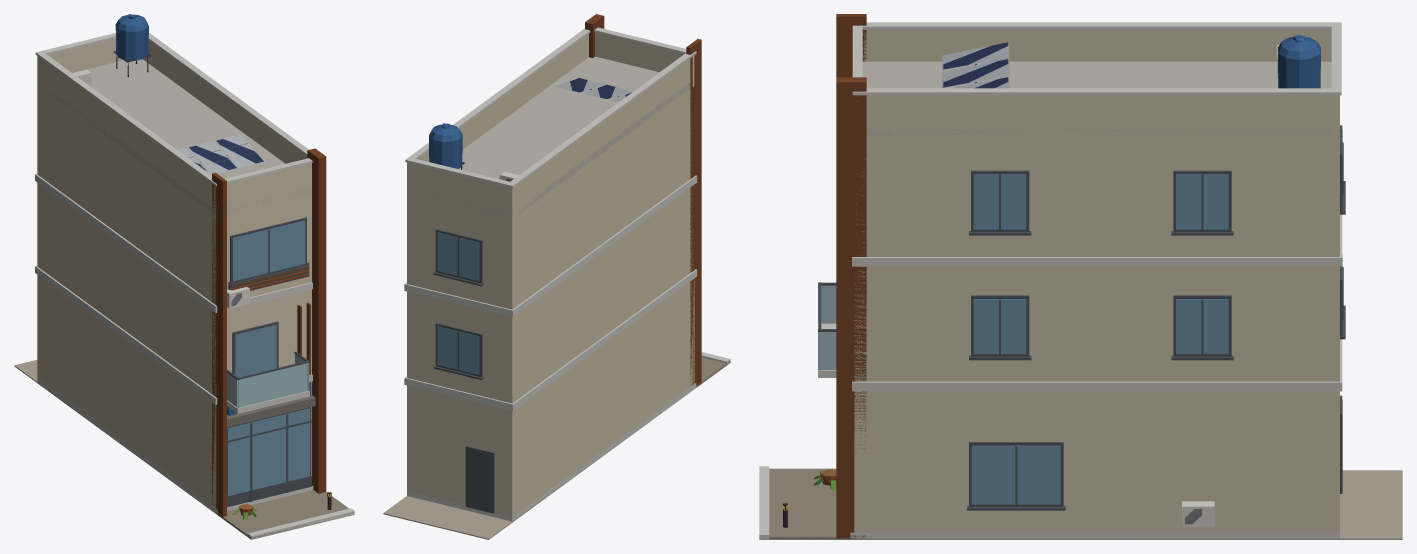
Rendered from bay1_right.glb.
3 views of the same model, side by side, from view 1: azimuth 30°, elevation 25°; view 2: azimuth 150°, elevation 25°; view 3: azimuth 270°, elevation 25° (orthographic). The views are drawn at different scales.
Parts seen in each view (by area): view 1: body; view 2: body; view 3: body.
Part boxes in pixels (left/top/right/bottom): body: left=14, top=14, right=354, bottom=539; body: left=383, top=14, right=730, bottom=539; body: left=759, top=14, right=1402, bottom=539.
Size of the model in its own units: 4.42 by 13.34 by 15.9.
